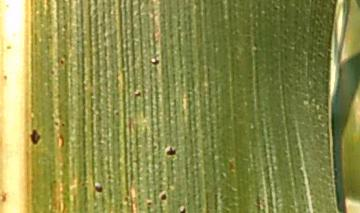tarspot: (29, 126, 42, 149), (93, 179, 105, 198), (164, 143, 178, 159), (148, 55, 162, 68), (159, 189, 168, 205), (132, 88, 145, 98), (113, 108, 122, 118), (179, 205, 188, 213)
